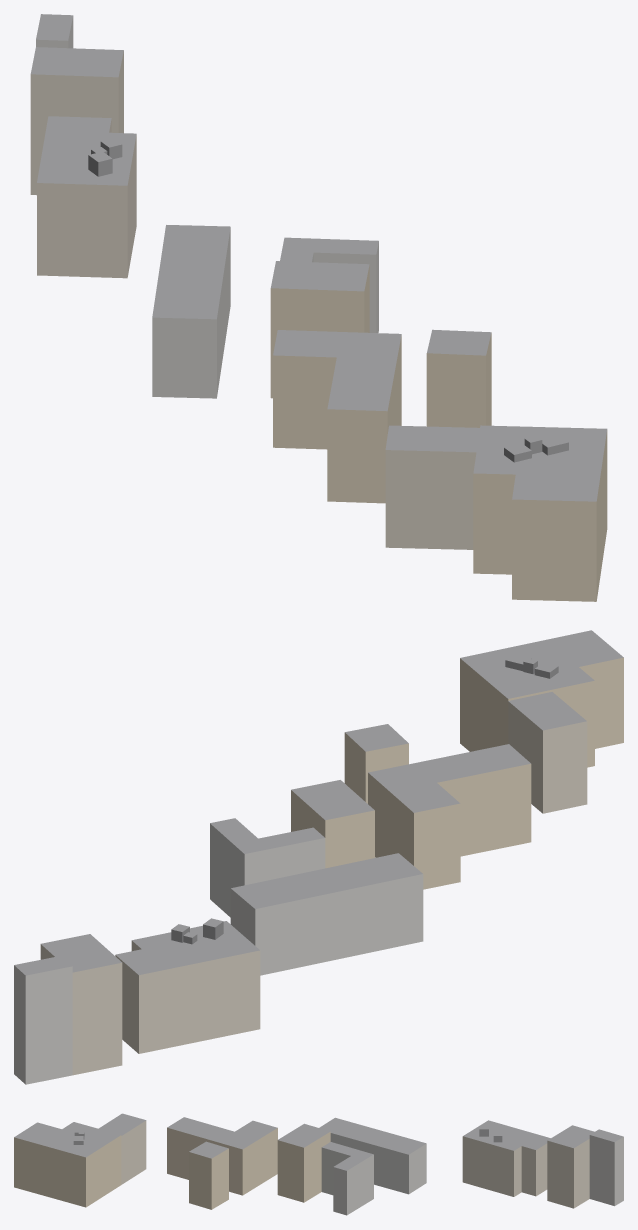
The model's file is building_-6_-7.glb.
3 renders of one model, top to bottom at view 1: azimuth 30°, elevation 25°; view 2: azimuth 150°, elevation 25°; view 3: azimuth 270°, elevation 25°, orthographic. The views are drawn at different scales.
Visible parts, largest first — view 1: roof, sandstone, concrete_warm, concrete_light; view 2: roof, sandstone, concrete_light, concrete_warm; view 3: sandstone, roof, concrete_warm, concrete_light.
Part boxes in pixels (x1=…): roof: x1=30, y1=14, x2=607, y2=501; sandstone: x1=270, y1=265, x2=607, y2=601; concrete_warm: x1=30, y1=51, x2=476, y2=549; concrete_light: x1=36, y1=16, x2=378, y2=398; roof: x1=14, y1=630, x2=623, y2=975; sandstone: x1=291, y1=657, x2=623, y2=889; concrete_light: x1=14, y1=823, x2=423, y2=1084; concrete_warm: x1=40, y1=701, x2=587, y2=1075; sandstone: x1=14, y1=1127, x2=330, y2=1209; roof: x1=14, y1=1113, x2=623, y2=1170; concrete_warm: x1=121, y1=1120, x2=589, y2=1208; concrete_light: x1=321, y1=1133, x2=623, y2=1215.
Bounding box in the file's own units: 30.34 × 15.56 × 134.
